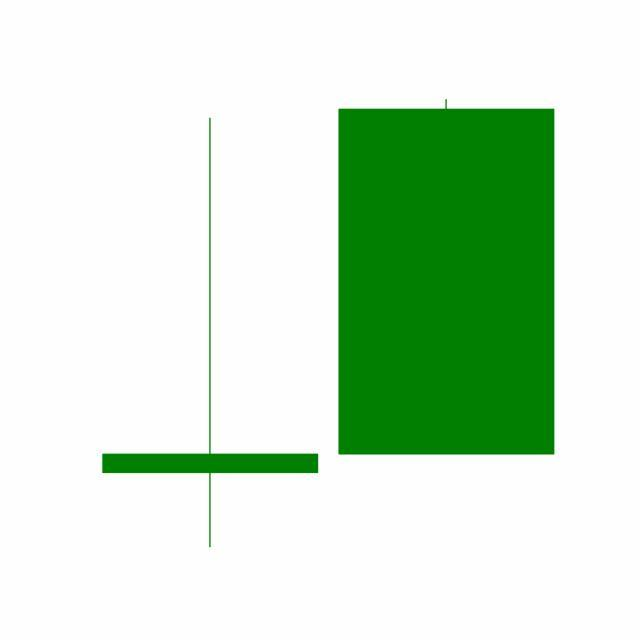Marubozu: (328, 96, 566, 459)
